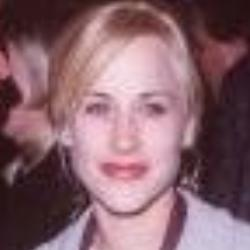face: (33, 4, 215, 217)
